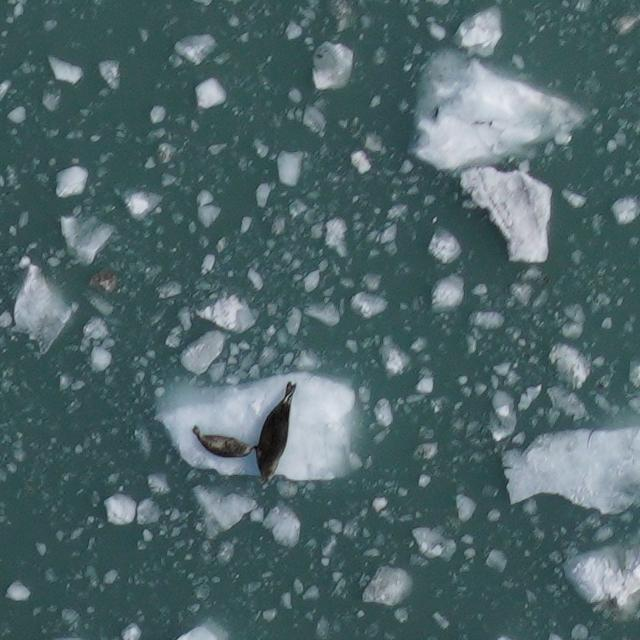seal: (248, 379, 301, 489), (188, 422, 261, 462)
